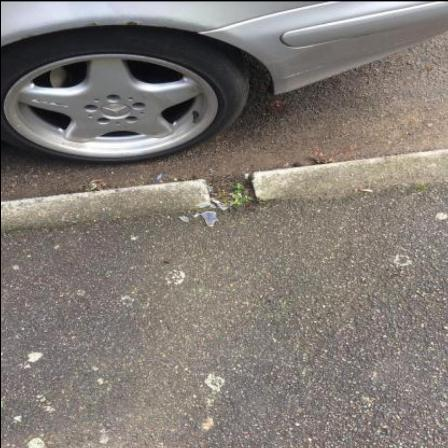Other plastic: (201, 211, 219, 227)
Unlabeled litter: (213, 198, 227, 206), (196, 202, 210, 208), (180, 216, 188, 222), (221, 207, 229, 211), (210, 204, 217, 208), (194, 213, 200, 217)
